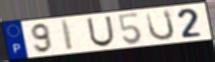2: (177, 7, 207, 40)
5: (116, 11, 143, 46)
9: (30, 22, 54, 54)
I: (60, 19, 76, 52)
U: (144, 9, 177, 42), (86, 15, 116, 48)
